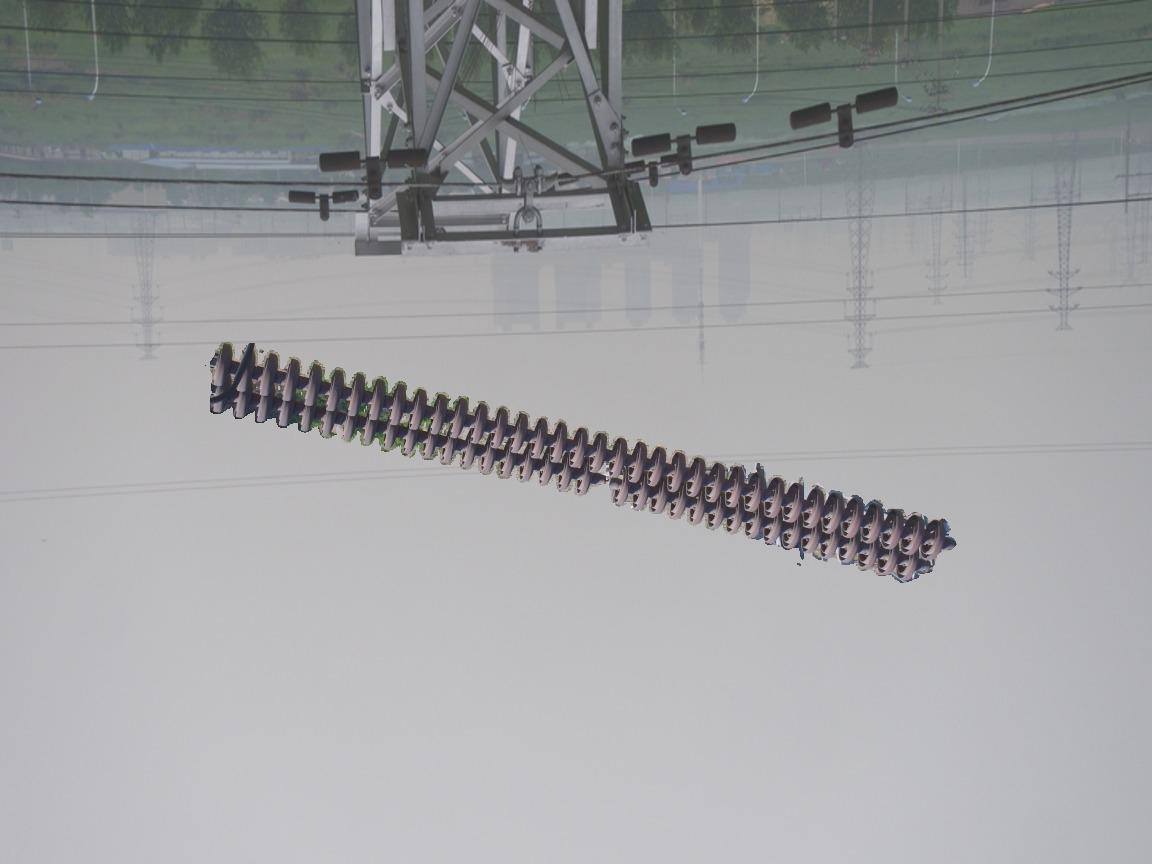insulator: (200, 339, 962, 585)
insulator_stringdrop: (573, 464, 631, 510)
